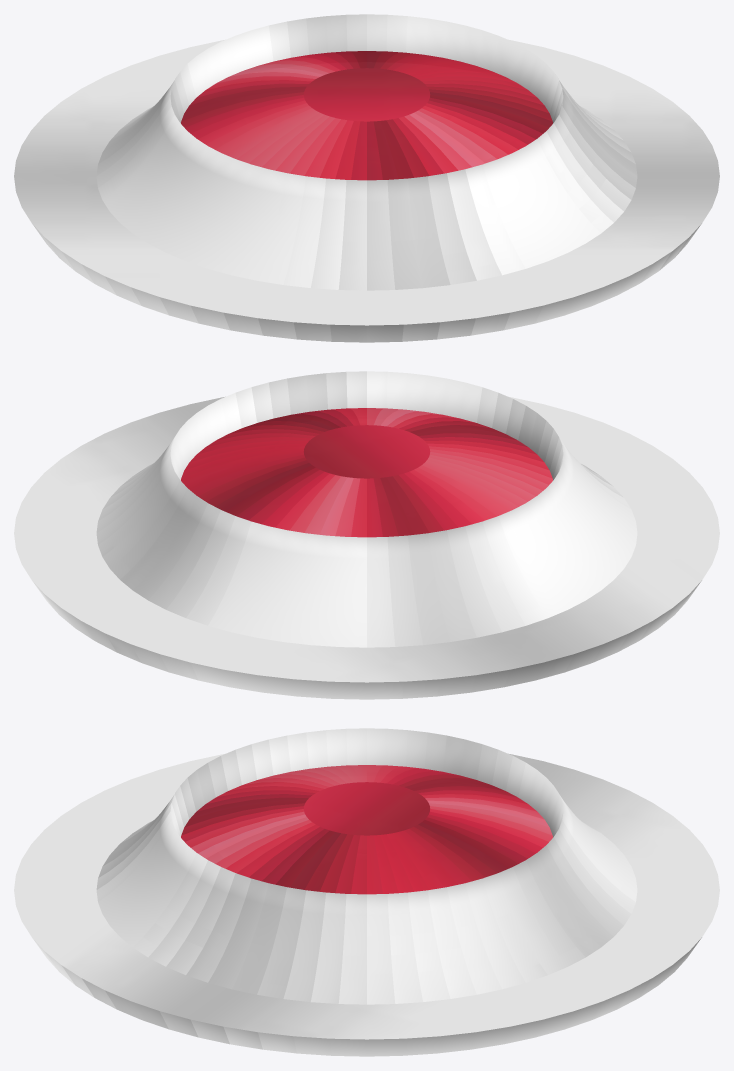
Rendered from original-16.obj.
3 renders of one model, top to bottom at view 1: azimuth 30°, elevation 25°; view 2: azimuth 150°, elevation 25°; view 3: azimuth 270°, elevation 25°, orthographic.
Visible parts, largest first — view 1: mesh109/mesh109-geometry#mesh109-geometry; view 2: mesh109/mesh109-geometry#mesh109-geometry; view 3: mesh109/mesh109-geometry#mesh109-geometry.
Boxes of the visible parts, left/top/right/bottom form: mesh109/mesh109-geometry#mesh109-geometry: left=14, top=14, right=719, bottom=342; mesh109/mesh109-geometry#mesh109-geometry: left=14, top=371, right=719, bottom=699; mesh109/mesh109-geometry#mesh109-geometry: left=14, top=728, right=719, bottom=1056.
Bounding box in the file's own units: 0.1006 × 0.0166 × 0.1006.
Materials: 2 (2 with a texture image).
